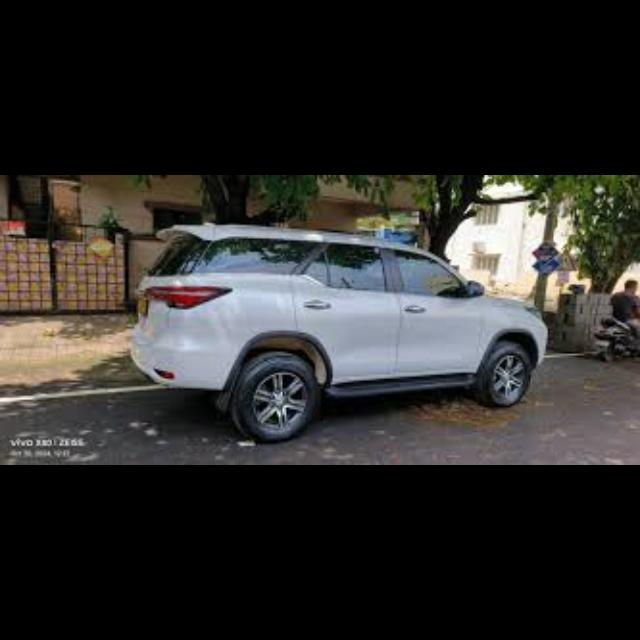number-plate: (136, 299, 148, 316)
vehicles: (125, 220, 544, 445)
